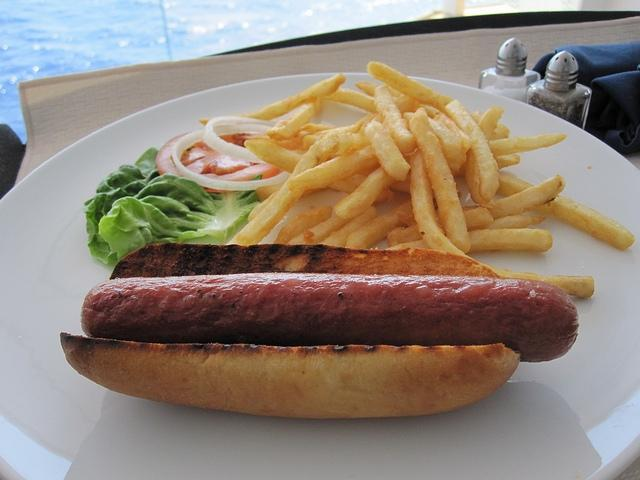lettuce: (84, 143, 262, 264)
tomato: (156, 131, 282, 192)
